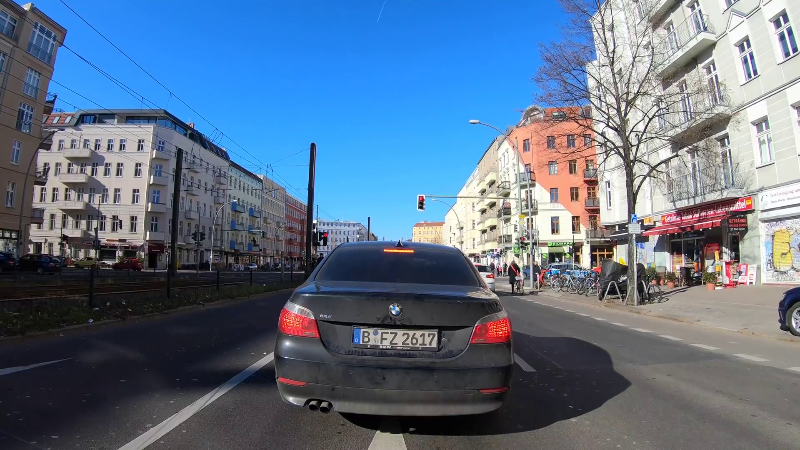Plate: (353, 327, 439, 348)
